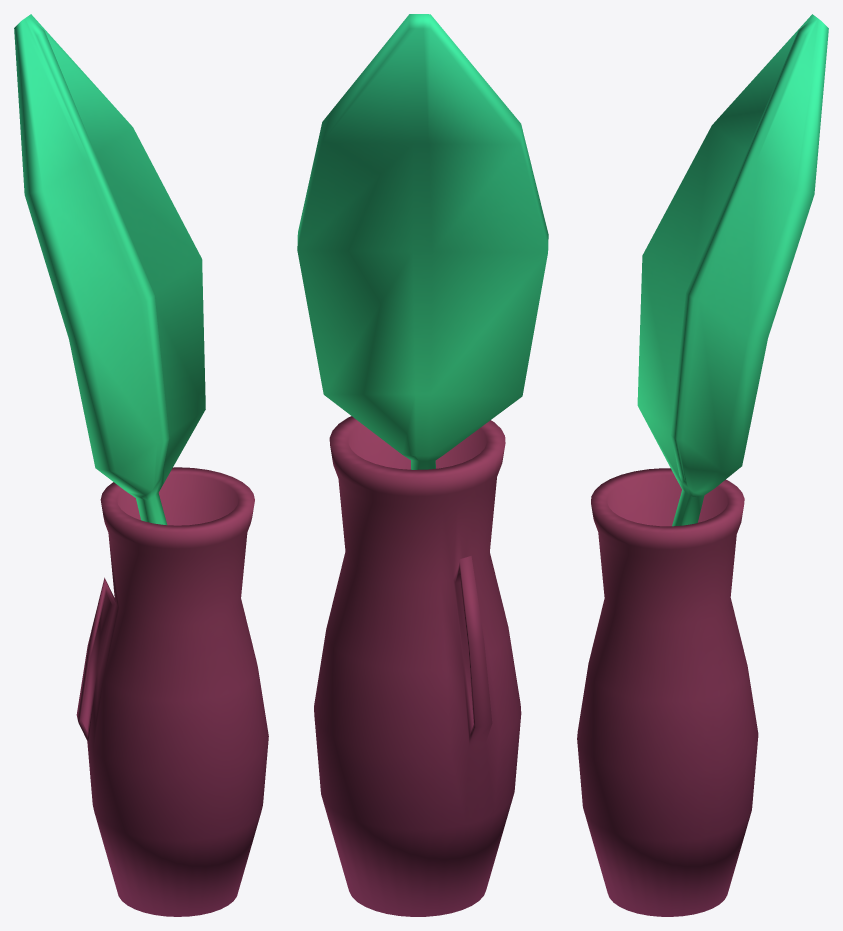
File: bottleQuill.fbx
3 views of the same model, side by side, from view 1: azimuth 30°, elevation 25°; view 2: azimuth 150°, elevation 25°; view 3: azimuth 270°, elevation 25° (orthographic). The views are drawn at different scales.
Visible parts, largest first — view 1: Cylinder.002, Plane.001; view 2: Cylinder.002, Plane.001; view 3: Cylinder.002, Plane.001.
Part boxes in pixels (bbox=[...]): Cylinder.002: bbox=[76, 467, 268, 916]; Plane.001: bbox=[14, 14, 205, 525]; Cylinder.002: bbox=[314, 416, 521, 916]; Plane.001: bbox=[297, 14, 548, 469]; Cylinder.002: bbox=[577, 468, 758, 916]; Plane.001: bbox=[637, 14, 828, 526].
Bounding box in the file's own units: 4.85 × 19.39 × 5.29.
